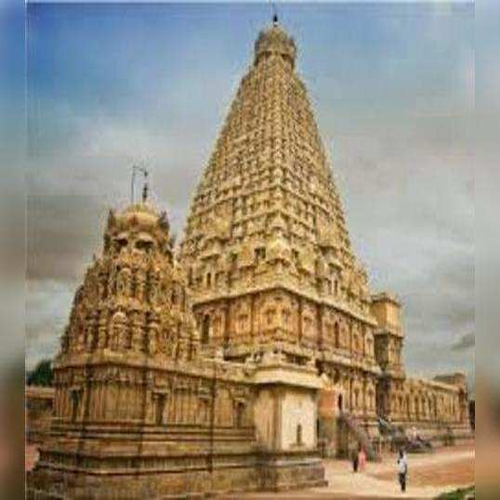Temple: (173, 14, 386, 389), (56, 187, 206, 438)
